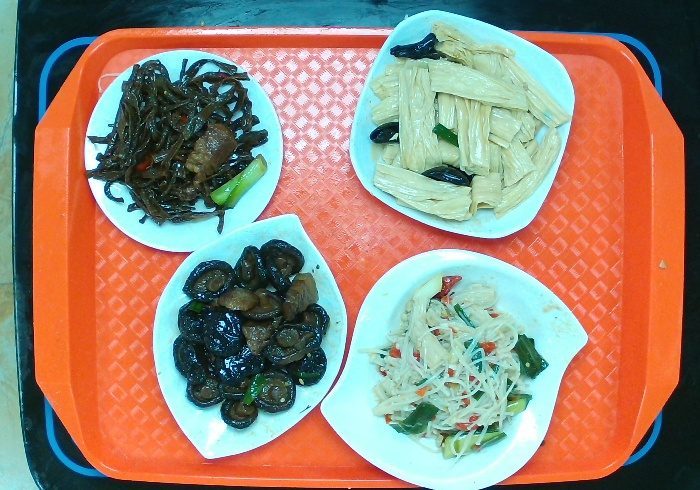RJxy-Da_Du_Pan: (148, 207, 351, 463)
RJxy-Shuang_Jiao_Pan: (316, 244, 591, 490)
RJxy-Si_Fang_Wan: (344, 8, 578, 242)
RJxy-Xiao_Yuan_Die: (79, 47, 287, 258)
